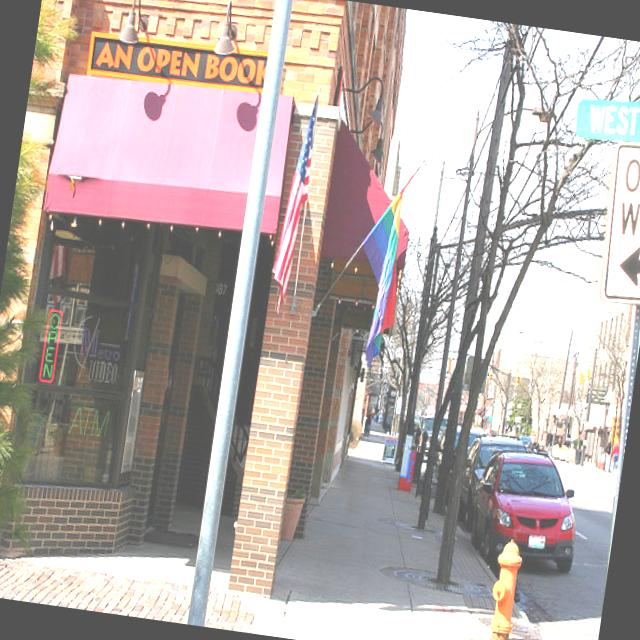Vehicle: (465, 439, 589, 574), (457, 432, 522, 532), (453, 424, 482, 460), (420, 418, 435, 442), (472, 428, 488, 438)
